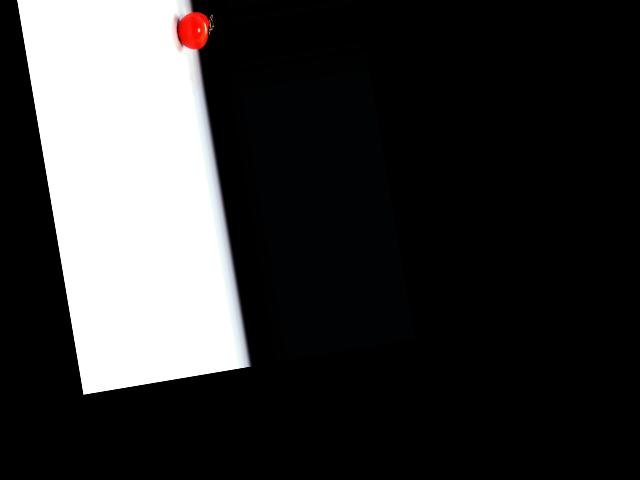tomato: (174, 10, 213, 52)
